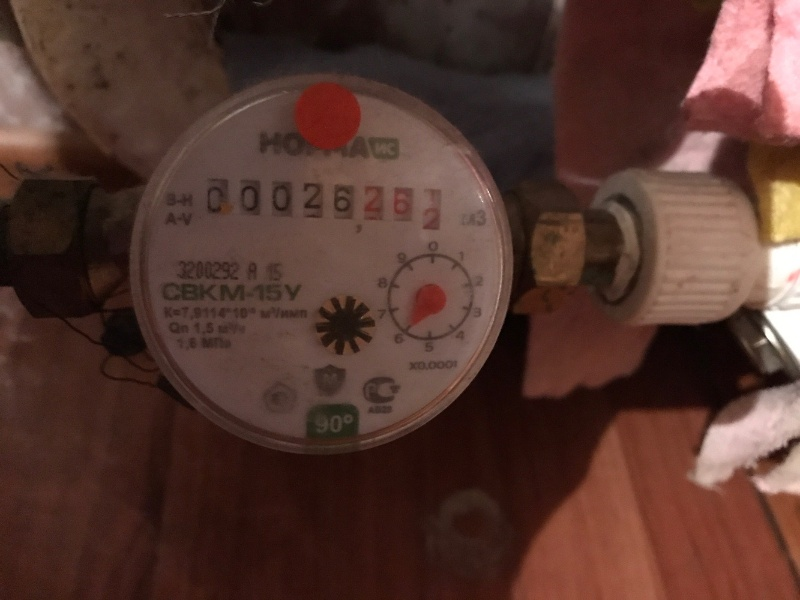meter: (187, 164, 448, 235)
